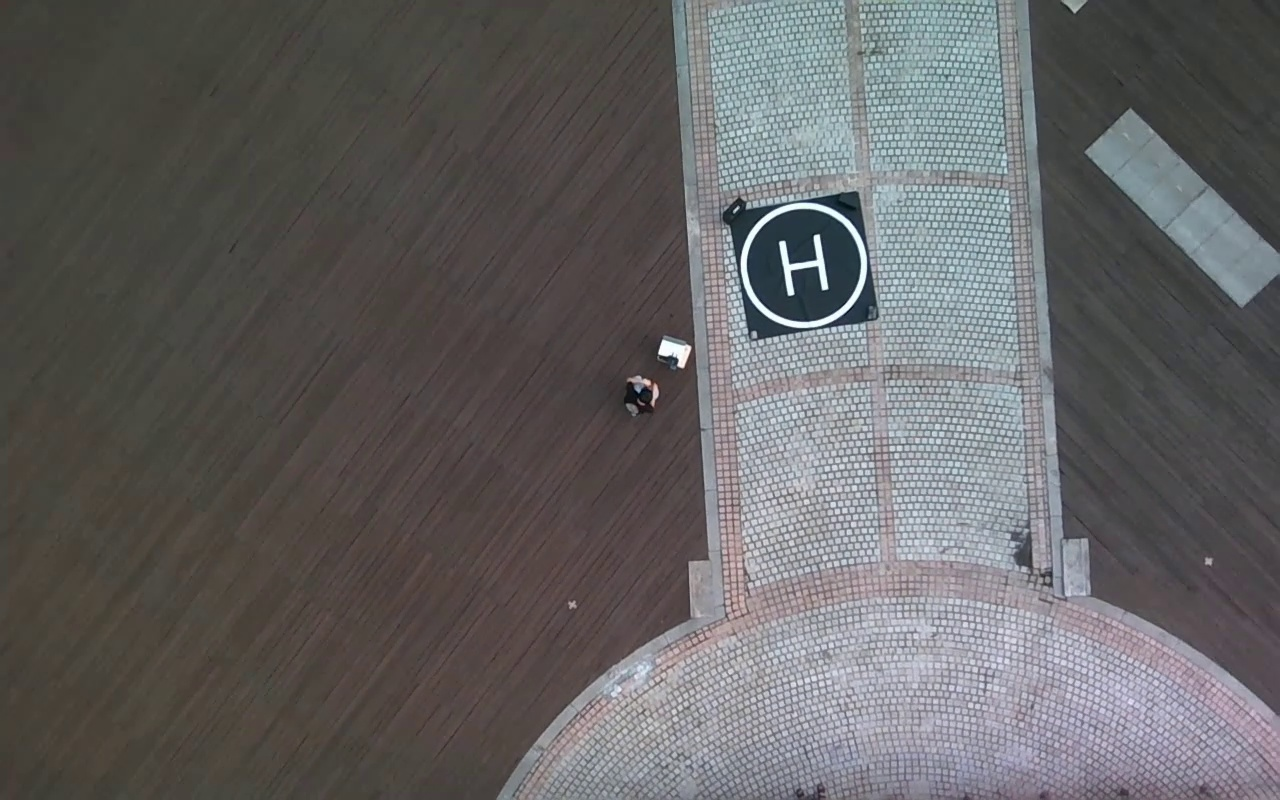H: (775, 233, 831, 295)
heliport: (742, 202, 868, 331)
